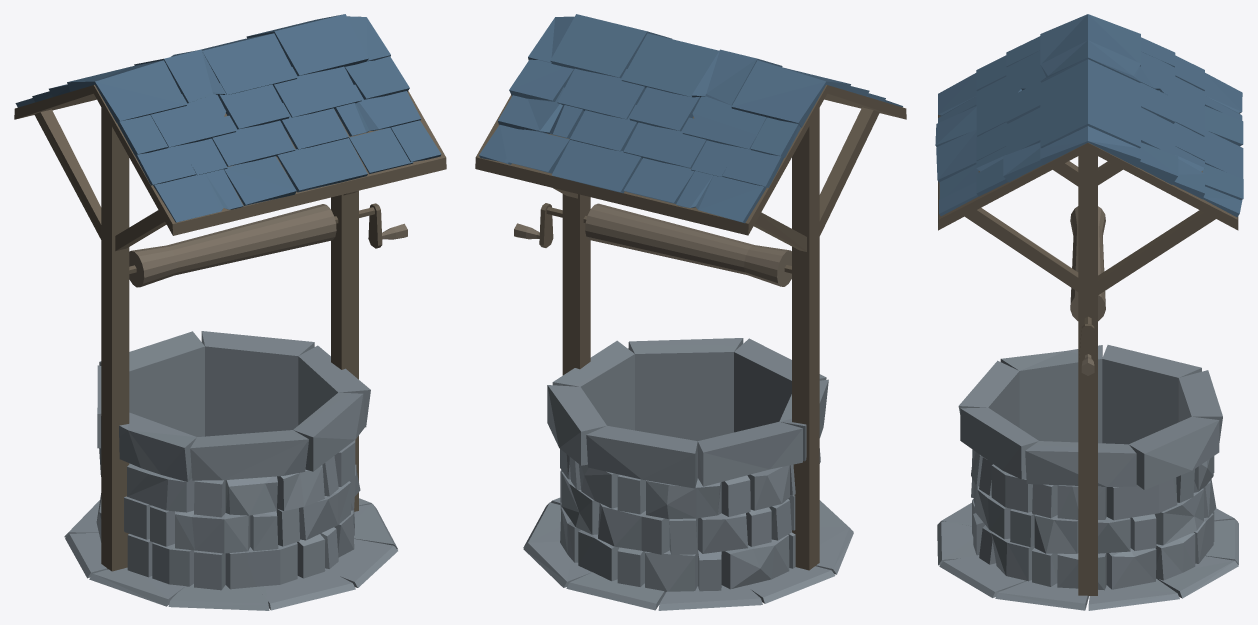
Rendered from Well.glb.
3 views of the same model, side by side, from view 1: azimuth 30°, elevation 25°; view 2: azimuth 150°, elevation 25°; view 3: azimuth 270°, elevation 25° (orthographic). The views are drawn at different scales.
Visible parts, largest first — view 1: WELL; view 2: WELL; view 3: WELL.
Boxes of the visible parts, bbox=[...] form: WELL: bbox=[14, 14, 446, 610]; WELL: bbox=[475, 14, 906, 610]; WELL: bbox=[935, 14, 1243, 610].
Bounding box in the file's own units: 1.74 × 2.62 × 1.55.
1 material, 1 textured.
